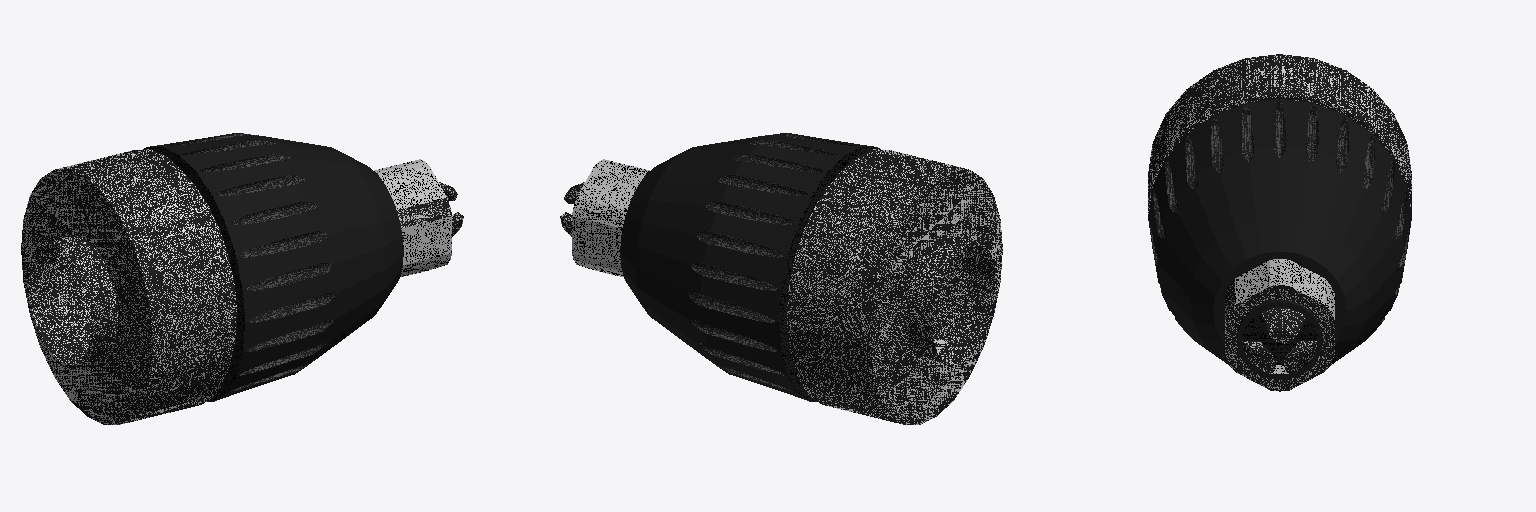
The model's file is chuck.obj.
3 renders of one model, left to right at view 1: azimuth 30°, elevation 25°; view 2: azimuth 150°, elevation 25°; view 3: azimuth 270°, elevation 25°, orthographic.
Visible parts, largest first — view 1: chuck_ID633; view 2: chuck_ID633; view 3: chuck_ID633.
Boxes of the visible parts, x1,y1,x2,y2 form: chuck_ID633: [21, 133, 463, 424]; chuck_ID633: [560, 133, 1002, 424]; chuck_ID633: [1148, 54, 1411, 391].
Bounding box in the file's own units: 0.072 × 0.0419 × 0.0419.